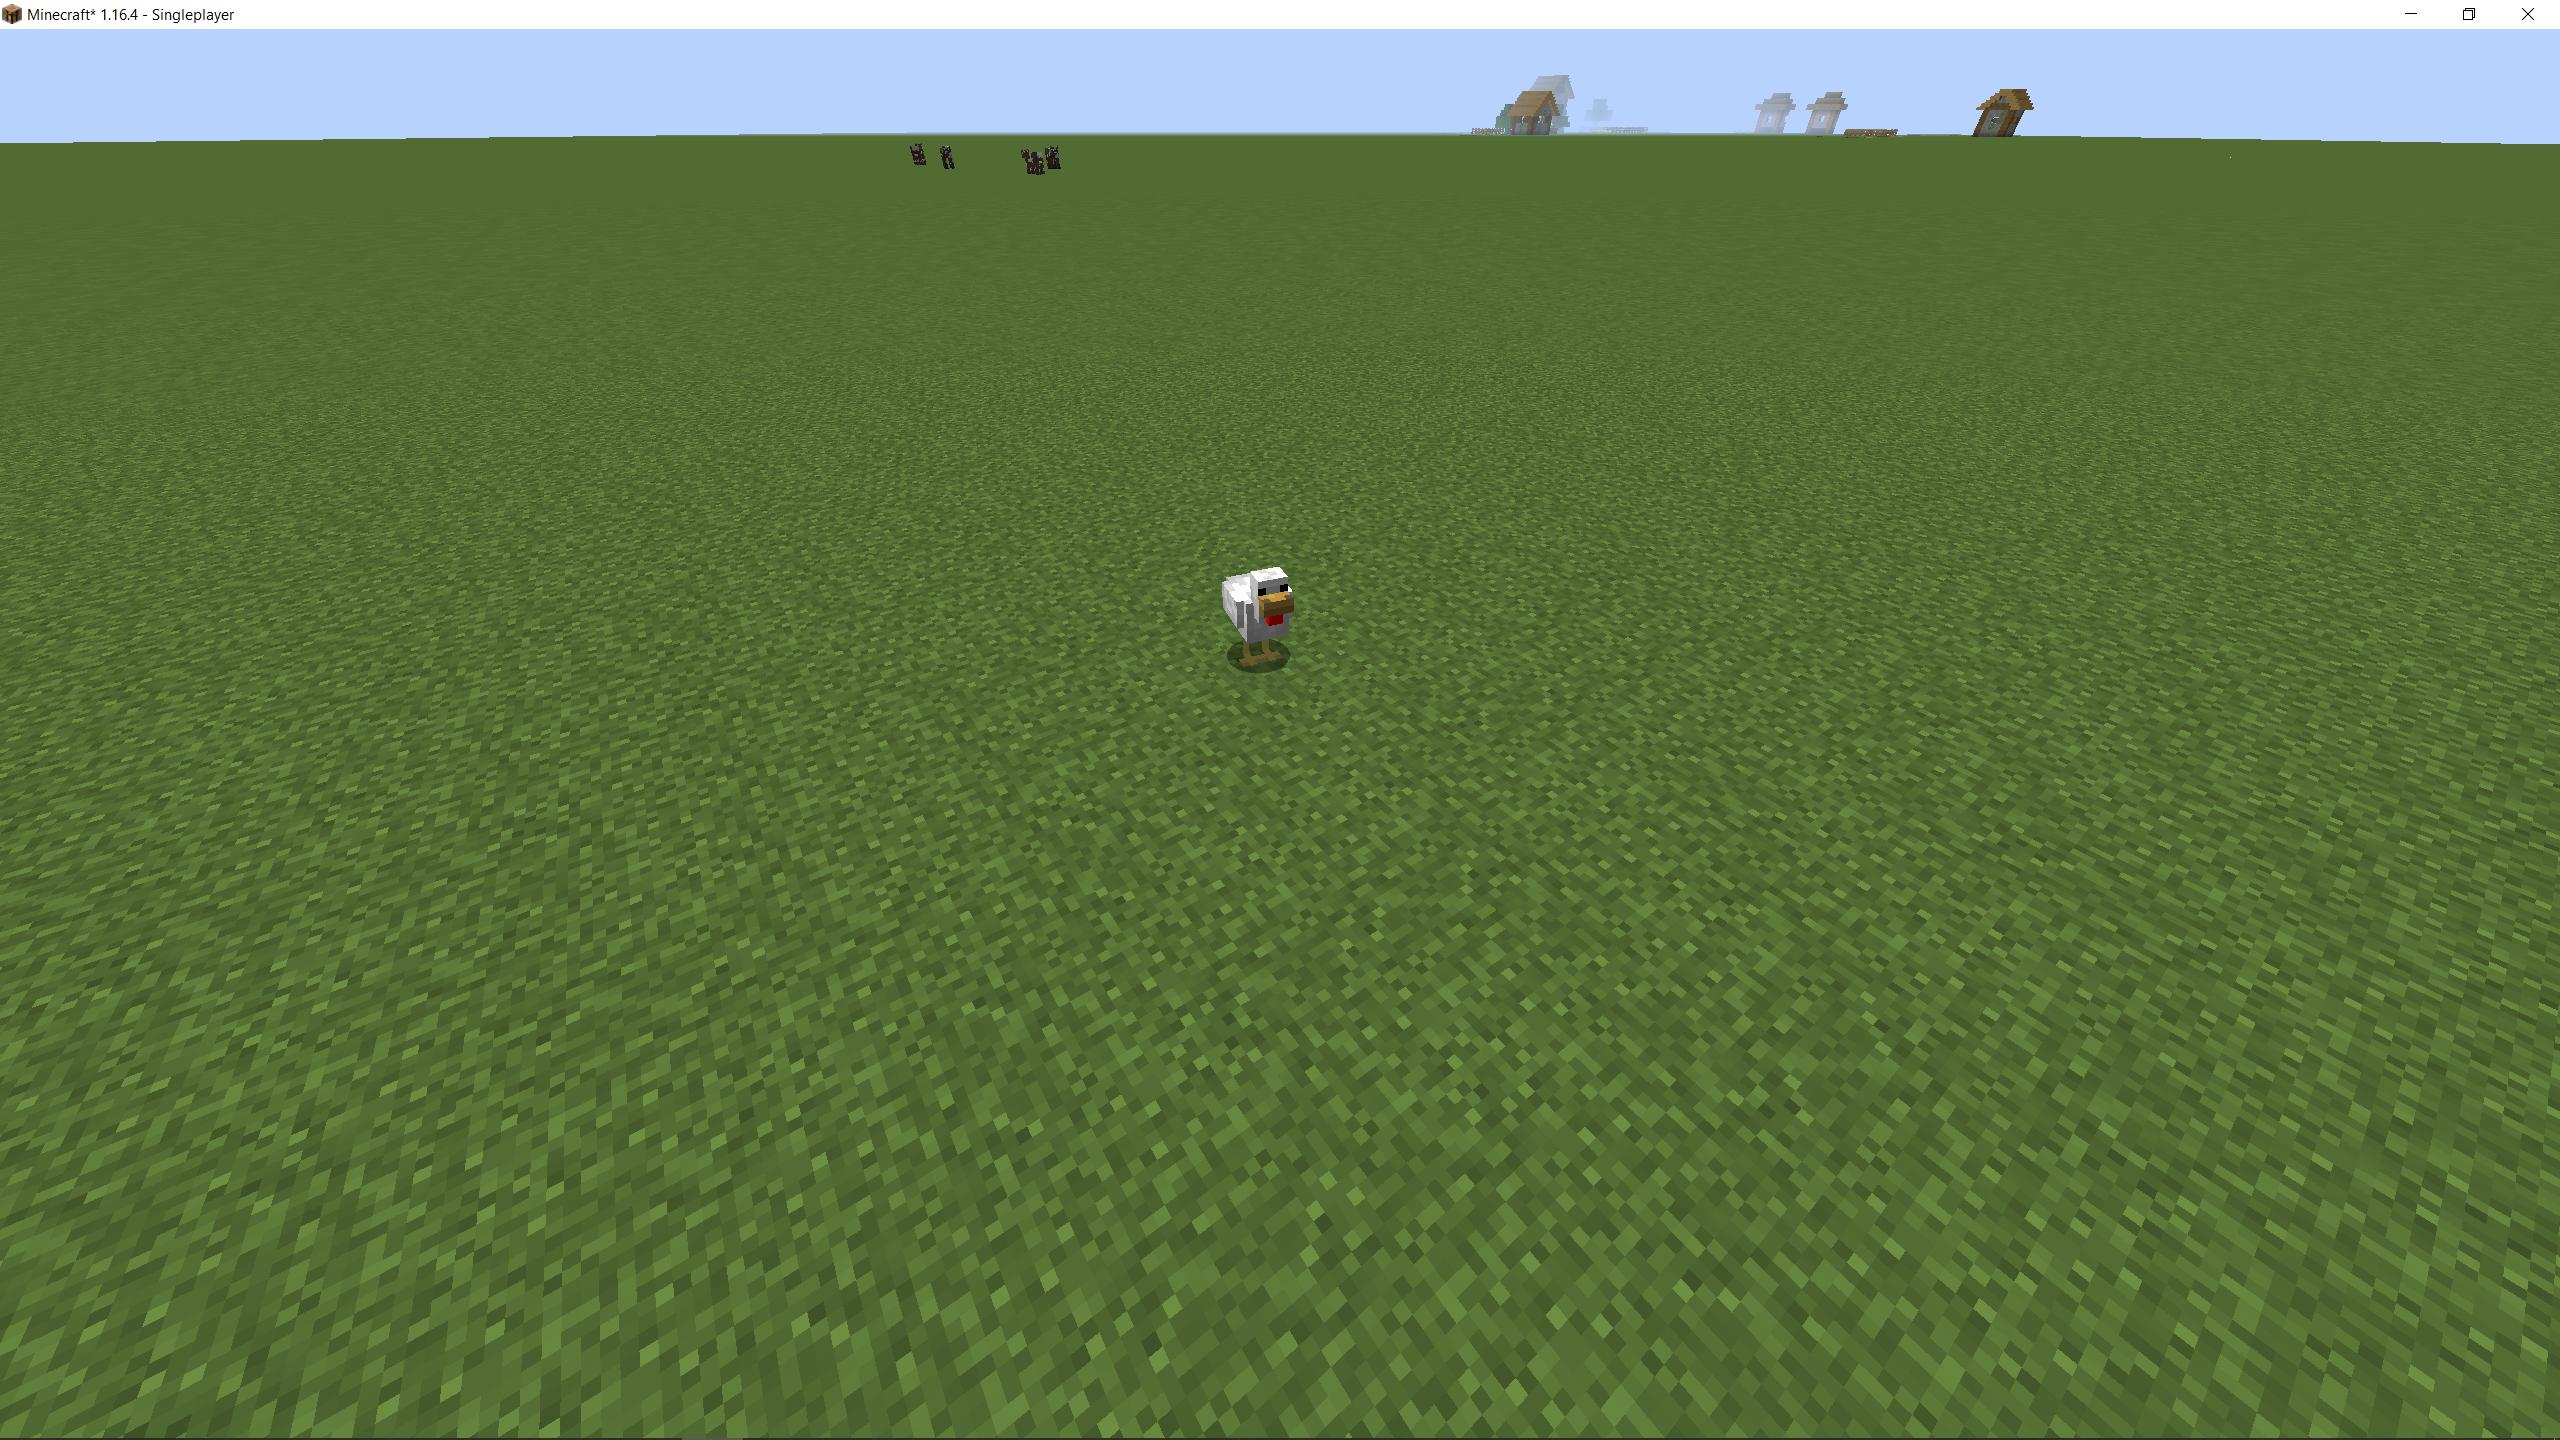chicken: (1213, 559, 1303, 672)
